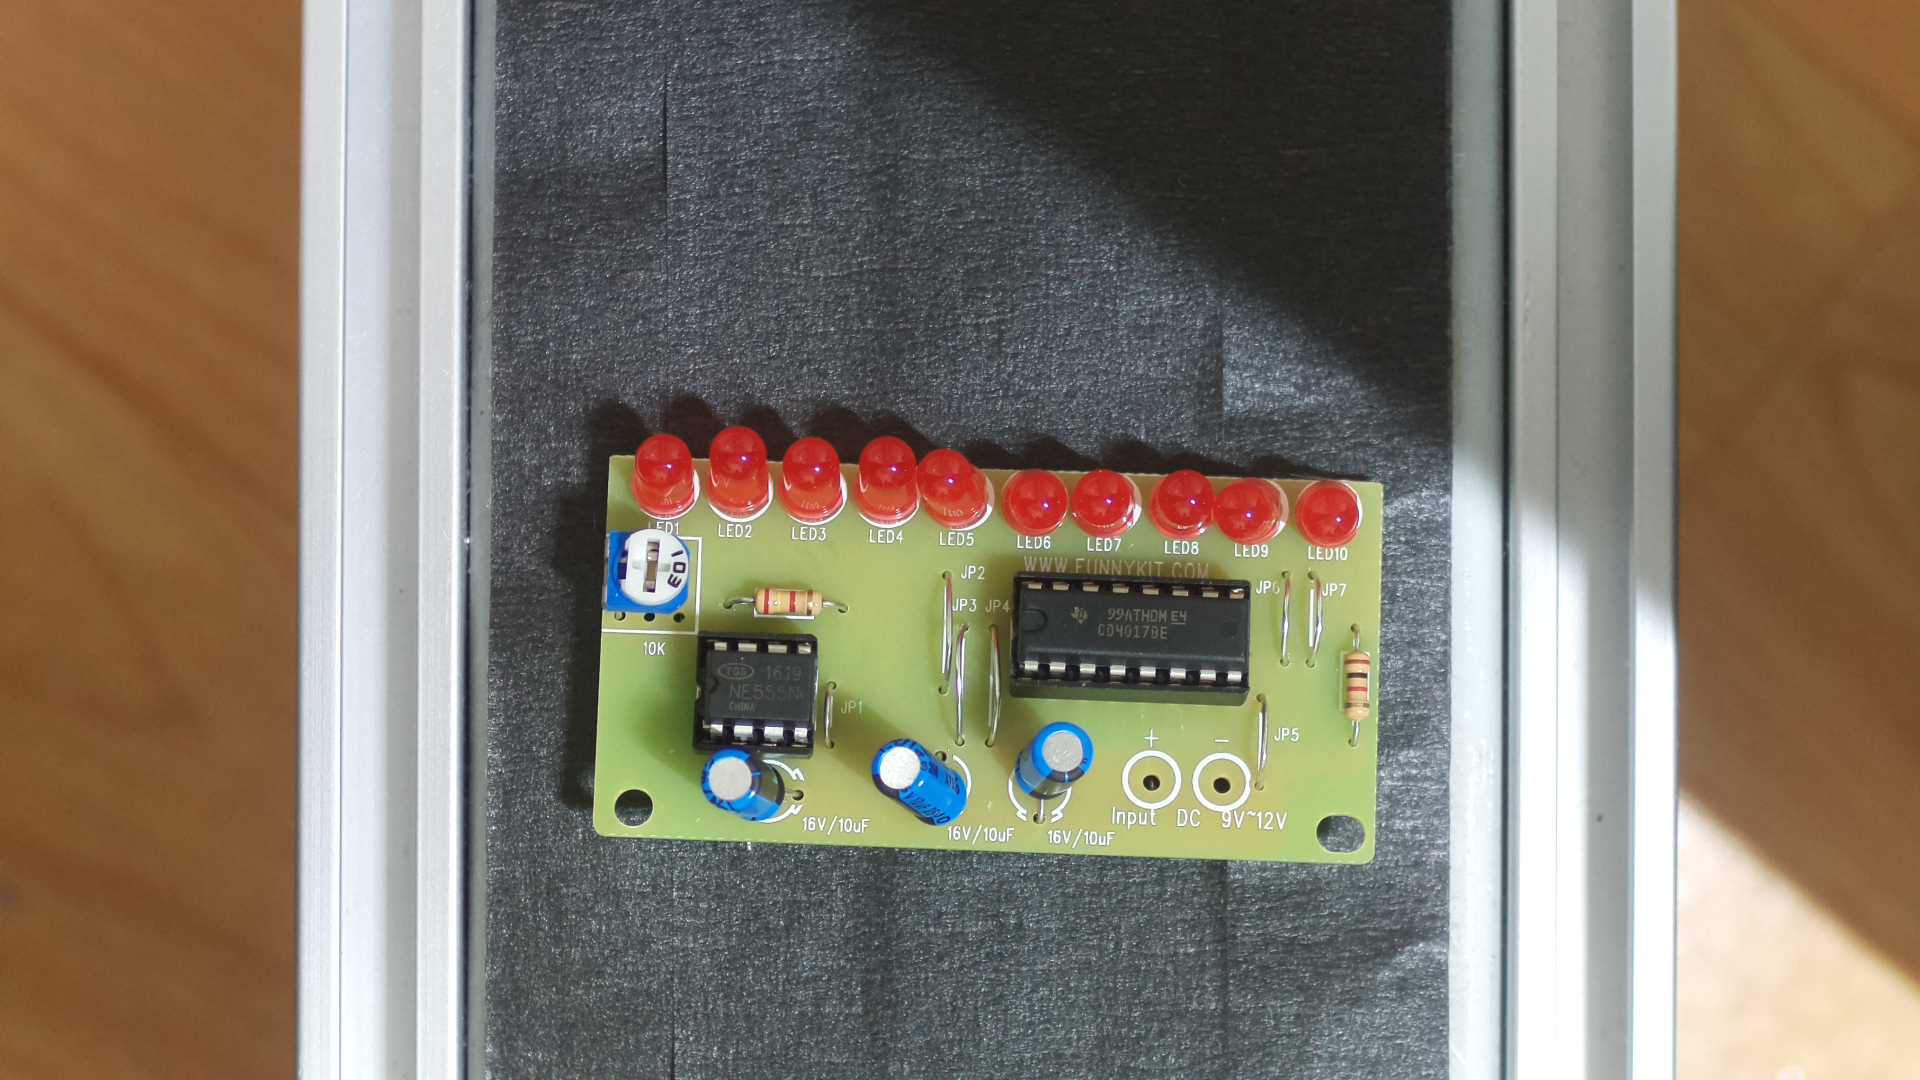B_Normal: (575, 427, 1403, 906)
